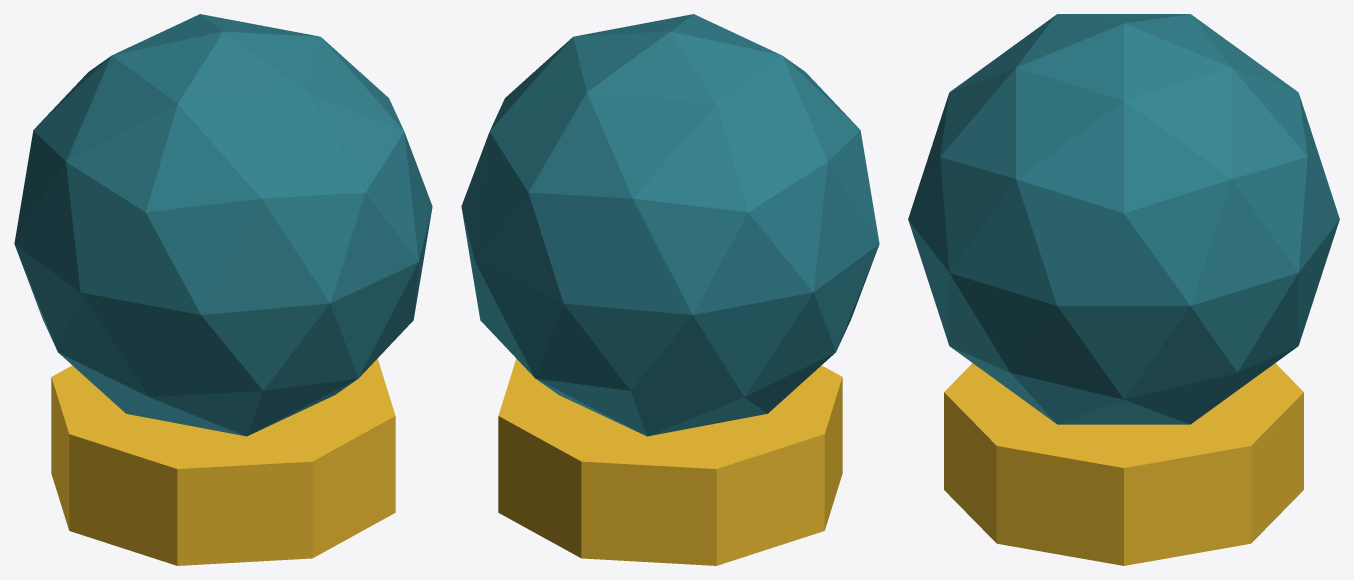
Rendered from crystal_ball.glb.
The picture shows the model from 3 angles, left to right: view 1: azimuth 30°, elevation 25°; view 2: azimuth 150°, elevation 25°; view 3: azimuth 270°, elevation 25°; orthographic projection.
Parts seen in each view (by area): view 1: crystal_ball; view 2: crystal_ball; view 3: crystal_ball.
Part boxes in pixels (x1,y1,x2,y2): crystal_ball: (14,14,432,565); crystal_ball: (461,14,879,565); crystal_ball: (908,14,1339,565).
Size of the model in its own units: 0.5706 by 0.715 by 0.6.
